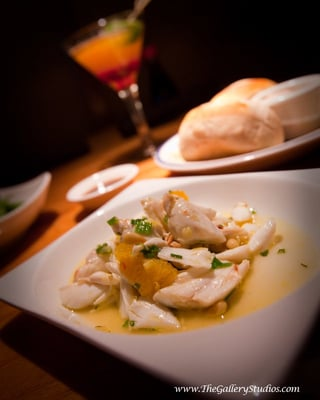soup: (176, 77, 285, 162)
sushi: (0, 176, 320, 389), (0, 171, 52, 255)
